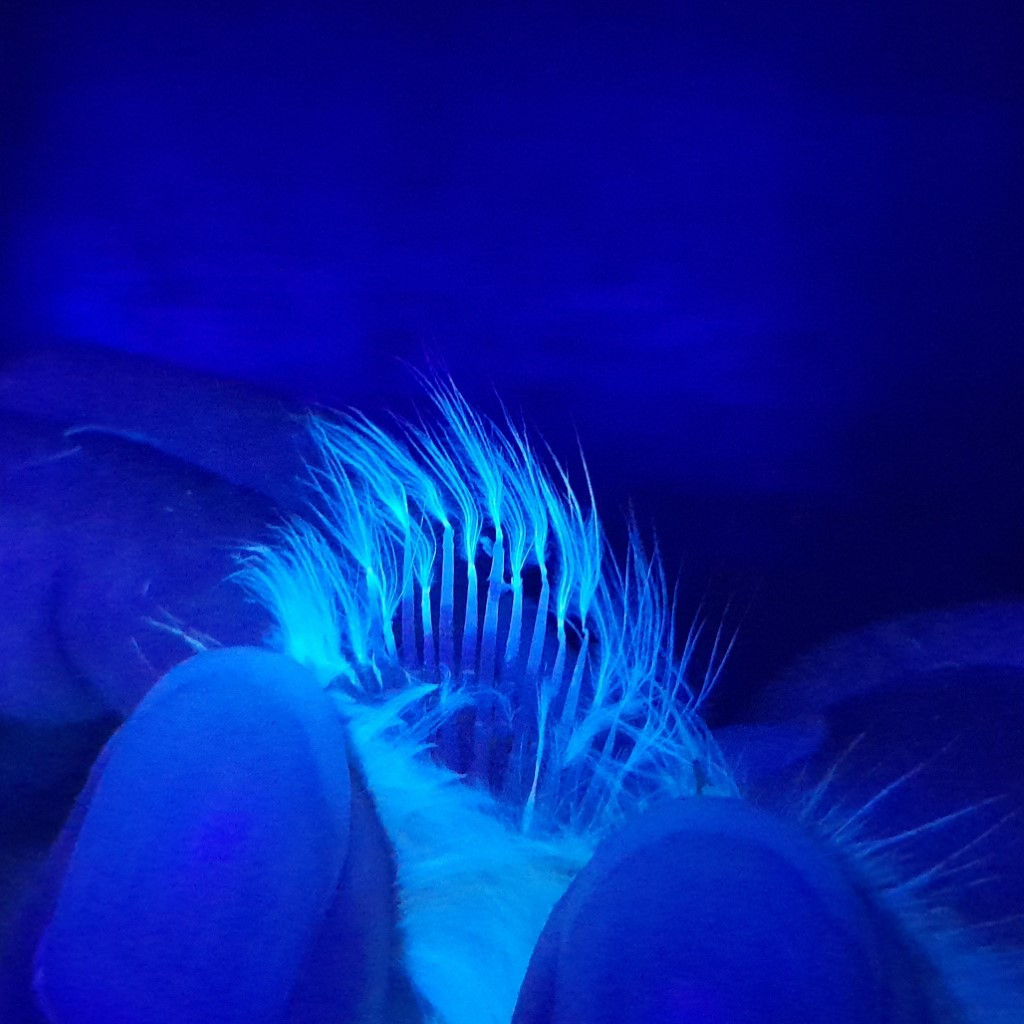male: (346, 510, 642, 835)
